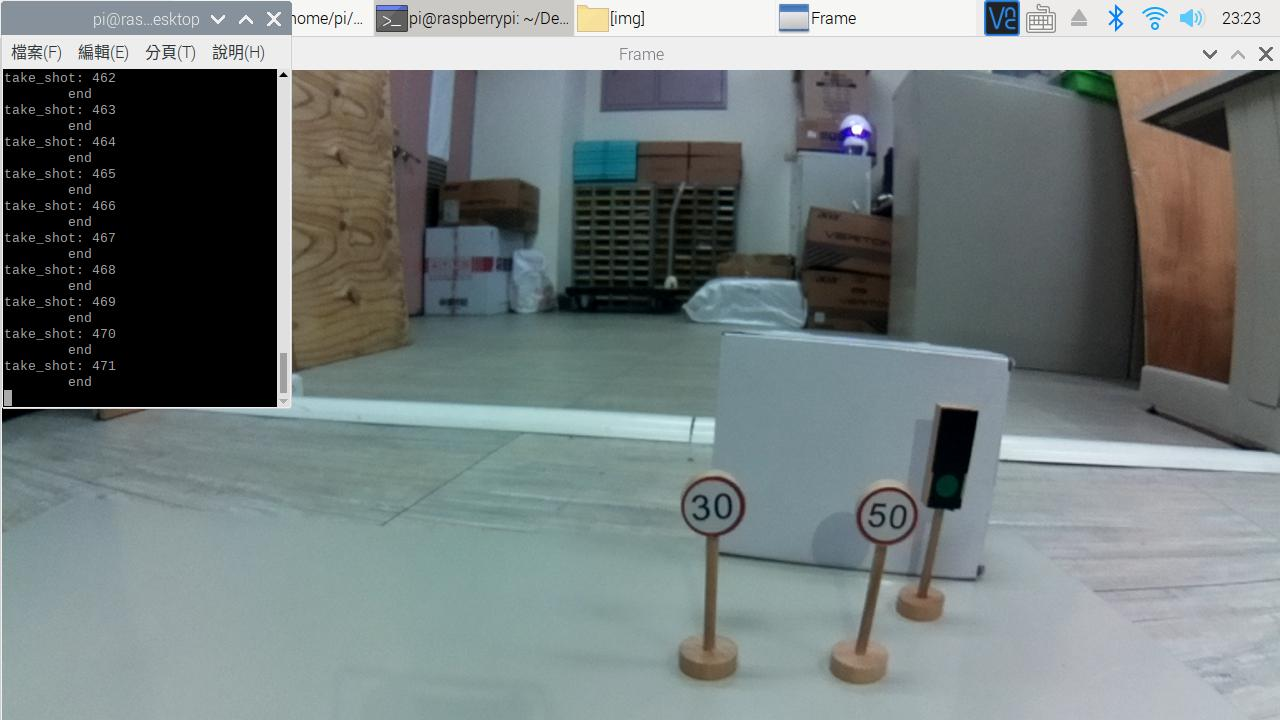Green: (922, 403, 983, 513)
Speed30: (678, 468, 748, 539)
Speed50: (851, 481, 917, 548)
